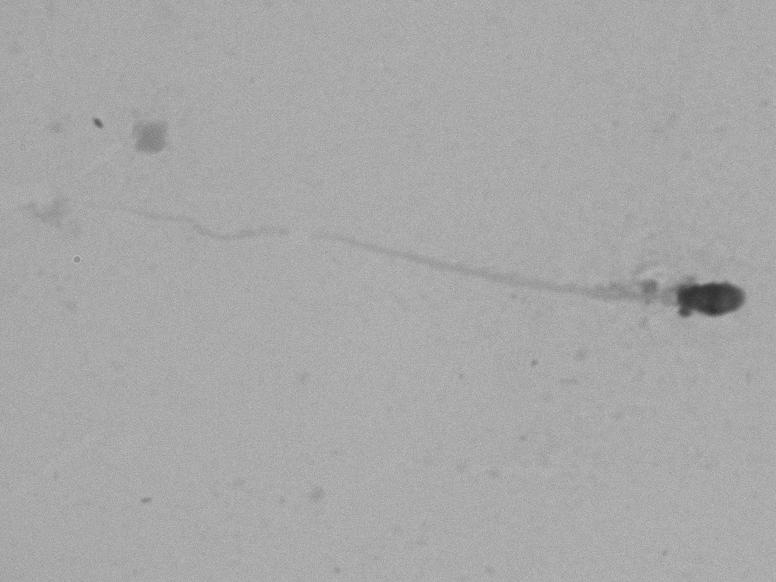Abnormal: (103, 166, 755, 354)
